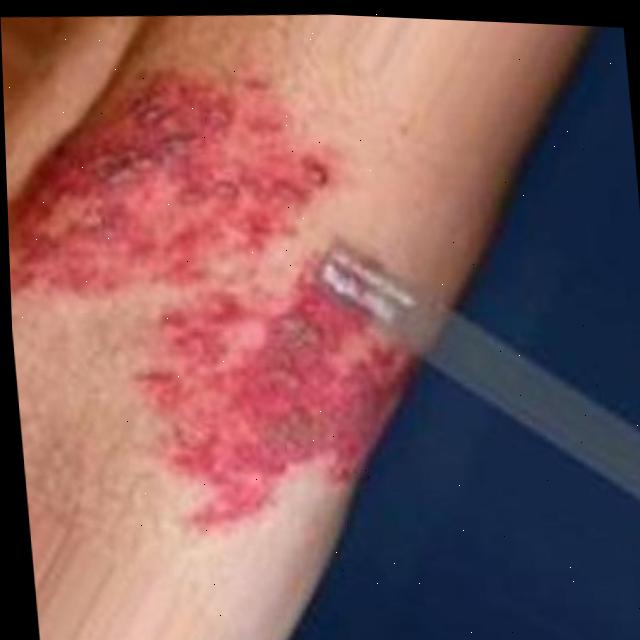Shingles: (5, 72, 304, 294), (169, 314, 382, 497)
